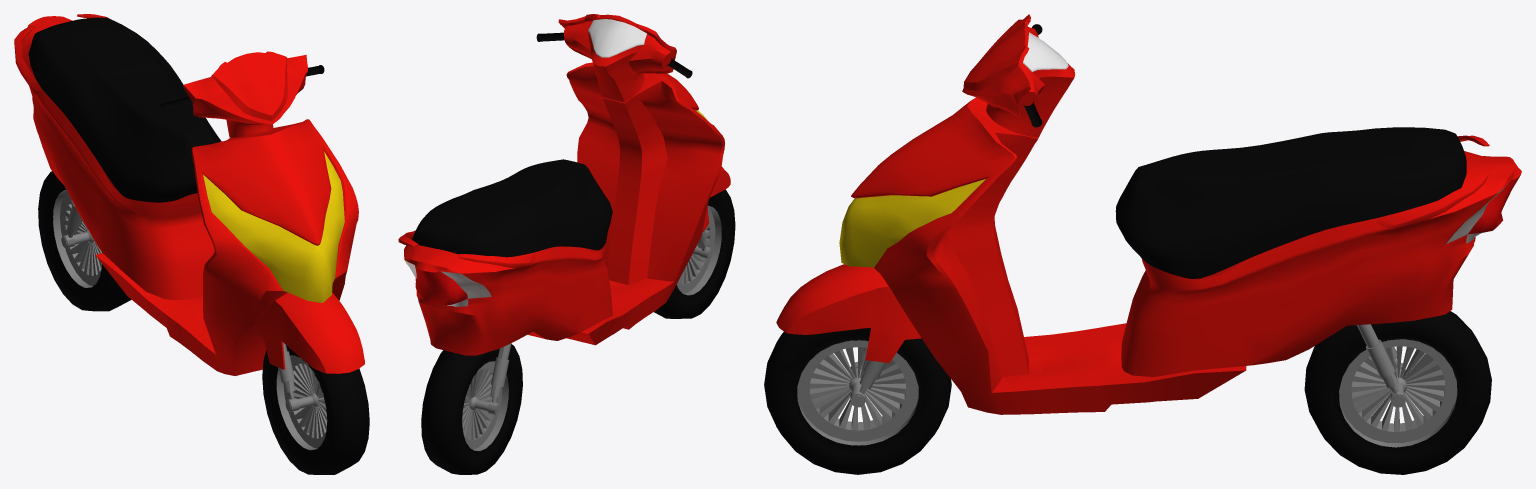
Rendered from Dio_1.fbx.
3 renders of one model, left to right at view 1: azimuth 30°, elevation 25°; view 2: azimuth 150°, elevation 25°; view 3: azimuth 270°, elevation 25°, orthographic. The views are drawn at different scales.
Visible parts, largest first — view 1: body, seat, wheel, steer, rims, front mudguard, back handle; view 2: body, seat, wheel, steer, rims, back handle, front mudguard; view 3: body, seat, wheel, rims, steer, front mudguard, back handle.
Part boxes in pixels (x1,y1,x2,y2): body: (21, 16, 358, 375); seat: (28, 17, 221, 202); wheel: (38, 171, 369, 474); steer: (160, 51, 324, 137); rims: (53, 189, 327, 450); front mudguard: (252, 292, 364, 373); back handle: (14, 14, 109, 94); body: (404, 62, 724, 355); seat: (412, 159, 612, 257); wheel: (421, 189, 735, 474); steer: (536, 14, 692, 102); rims: (462, 205, 721, 451); back handle: (398, 230, 536, 267); front mudguard: (702, 166, 730, 231); body: (839, 97, 1521, 414); seat: (1115, 127, 1466, 278); wheel: (764, 311, 1491, 474); rims: (797, 324, 1457, 447); steer: (962, 14, 1075, 137); front mudguard: (776, 264, 921, 363); back handle: (1371, 135, 1489, 229).
Size of the model in its own units: 103 by 222 by 345.
